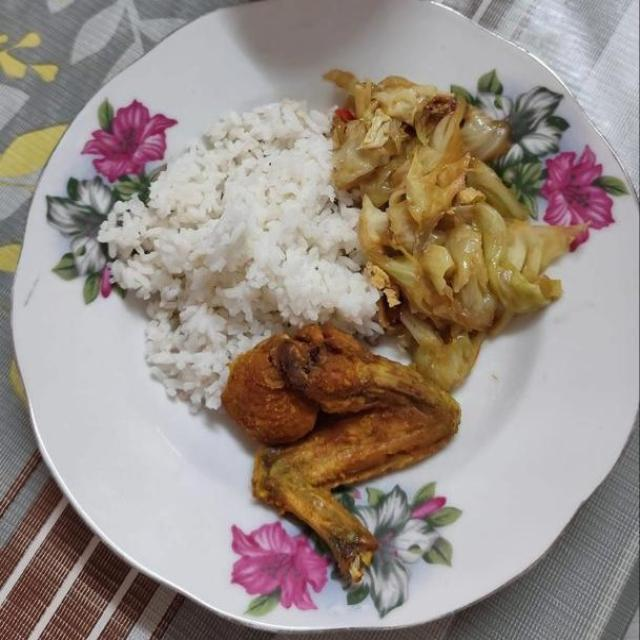Chicken: (225, 320, 458, 580)
Plate: (12, 122, 278, 615), (374, 205, 635, 618), (121, 4, 559, 159)
Rice: (103, 102, 377, 408)
Vegetables: (318, 58, 593, 394)
